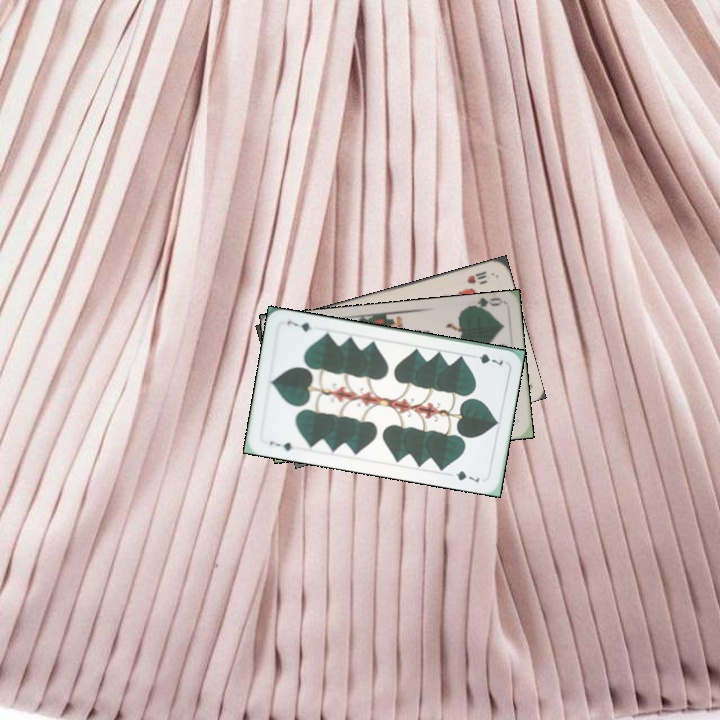G7: (466, 349, 506, 369), (265, 437, 295, 454)
GO: (463, 295, 504, 316)
H10: (463, 267, 492, 286)
